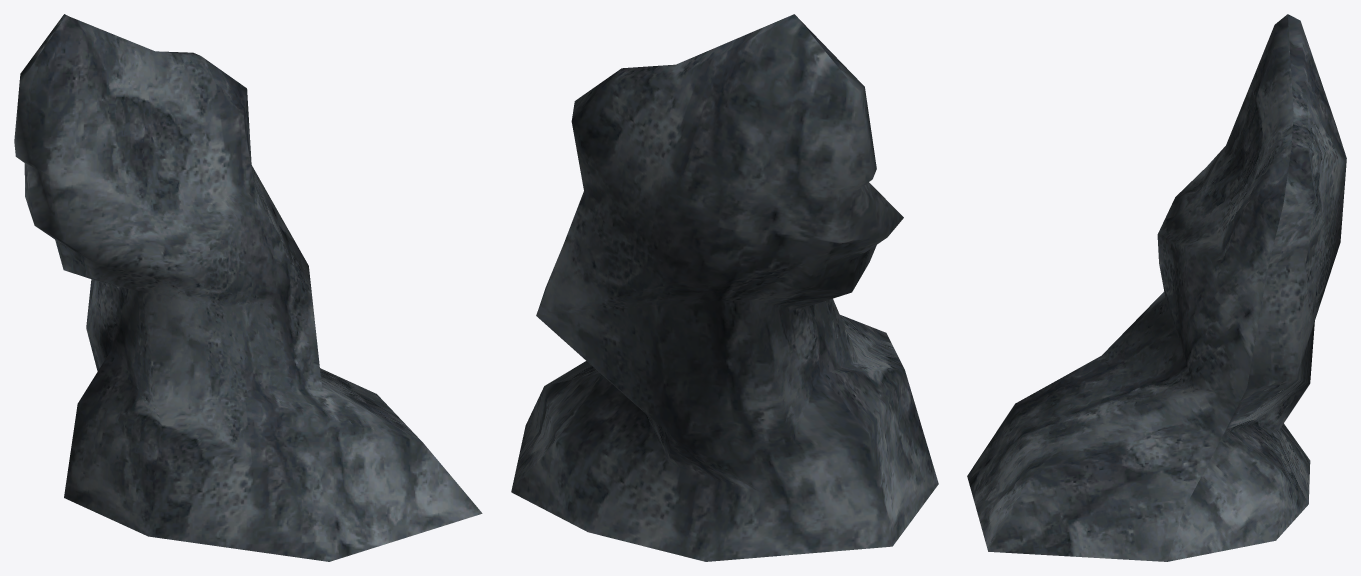
Rendered from environment_stone_shanti_004_f.FBX.
3 views of the same model, side by side, from view 1: azimuth 30°, elevation 25°; view 2: azimuth 150°, elevation 25°; view 3: azimuth 270°, elevation 25° (orthographic). The views are drawn at different scales.
Parts seen in each view (by area): view 1: environment_stone_shanti_004_f; view 2: environment_stone_shanti_004_f; view 3: environment_stone_shanti_004_f.
Part boxes in pixels (x1,y1,x2,y2): environment_stone_shanti_004_f: [14, 14, 482, 561]; environment_stone_shanti_004_f: [511, 14, 938, 561]; environment_stone_shanti_004_f: [967, 14, 1346, 561].
Bounding box in the file's own units: 557 × 705 × 578.
1 material, 1 textured.
